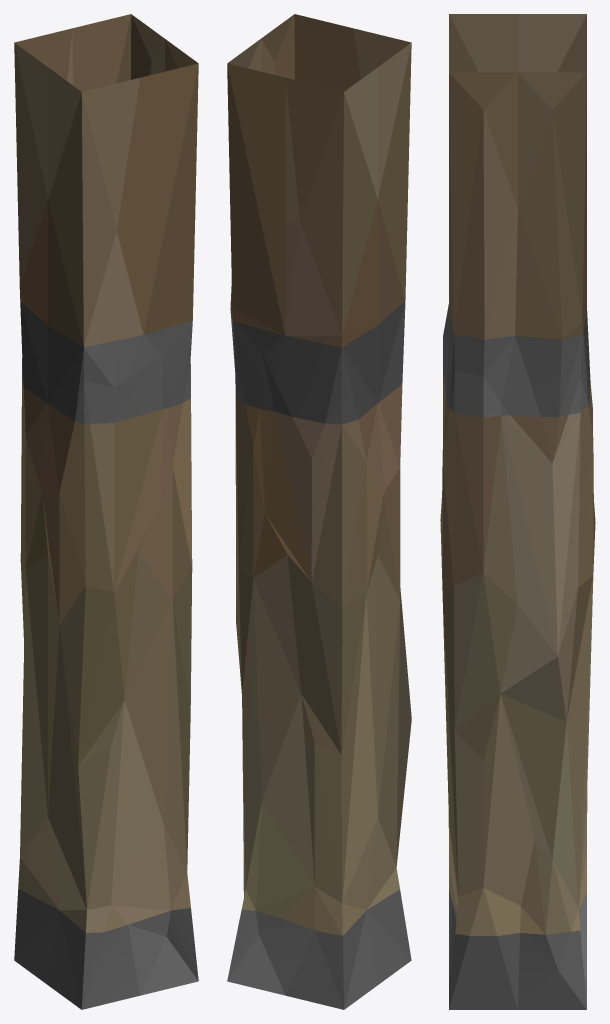
The model's file is Wall_UG-Post.fbx.
3 renders of one model, left to right at view 1: azimuth 30°, elevation 25°; view 2: azimuth 150°, elevation 25°; view 3: azimuth 270°, elevation 25°, orthographic. The views are drawn at different scales.
Visible parts, largest first — view 1: Wall_UG-Post; view 2: Wall_UG-Post; view 3: Wall_UG-Post.
Part boxes in pixels (x1,y1,x2,y2): Wall_UG-Post: (14,14,198,1009); Wall_UG-Post: (227,14,411,1009); Wall_UG-Post: (440,14,595,1009).
Bounding box in the file's own units: 56.27 × 375 × 56.21.
